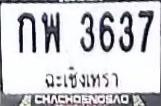3: (118, 10, 134, 52), (79, 11, 94, 52)
6: (99, 11, 114, 52)
7: (138, 9, 154, 52)
A01: (16, 12, 36, 53)
A30: (41, 11, 60, 52)
CCO: (41, 64, 122, 91)
